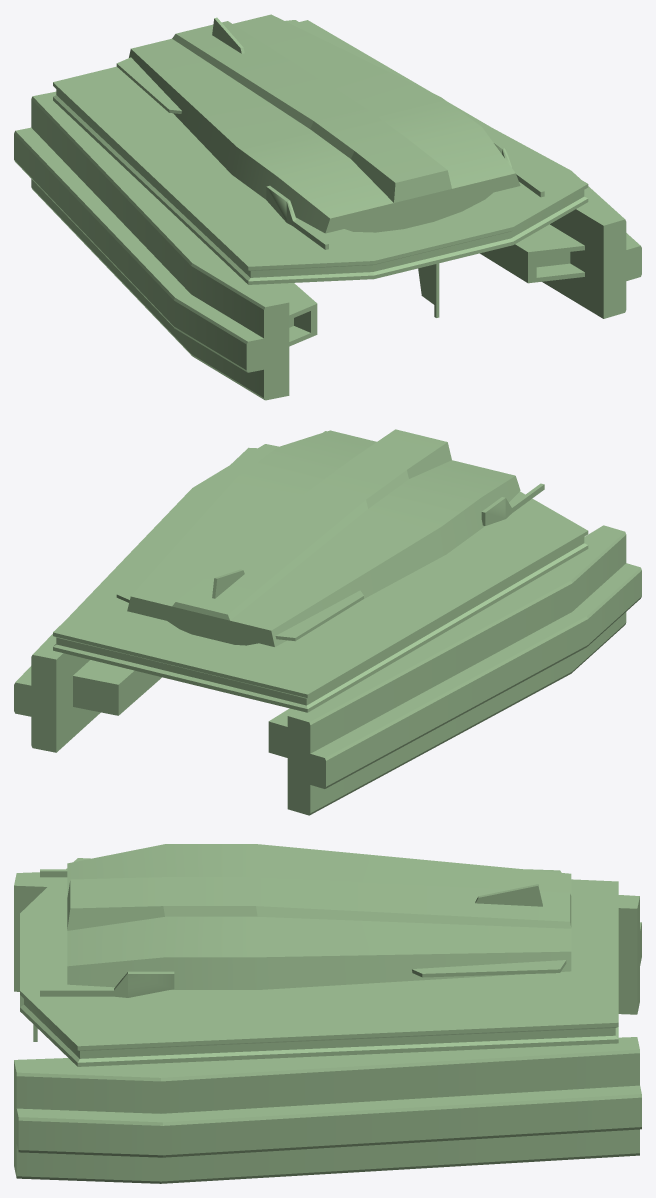
The model's file is Enemy02.FBX.
3 renders of one model, top to bottom at view 1: azimuth 30°, elevation 25°; view 2: azimuth 150°, elevation 25°; view 3: azimuth 270°, elevation 25°, orthographic. The views are drawn at different scales.
Visible parts, largest first — view 1: Enemy02; view 2: Enemy02; view 3: Enemy02.
Part boxes in pixels (x1,y1,x2,y2): Enemy02: [14, 14, 641, 400]; Enemy02: [14, 429, 641, 815]; Enemy02: [14, 844, 641, 1183].
Bounding box in the file's own units: 186 × 73.12 × 215.
